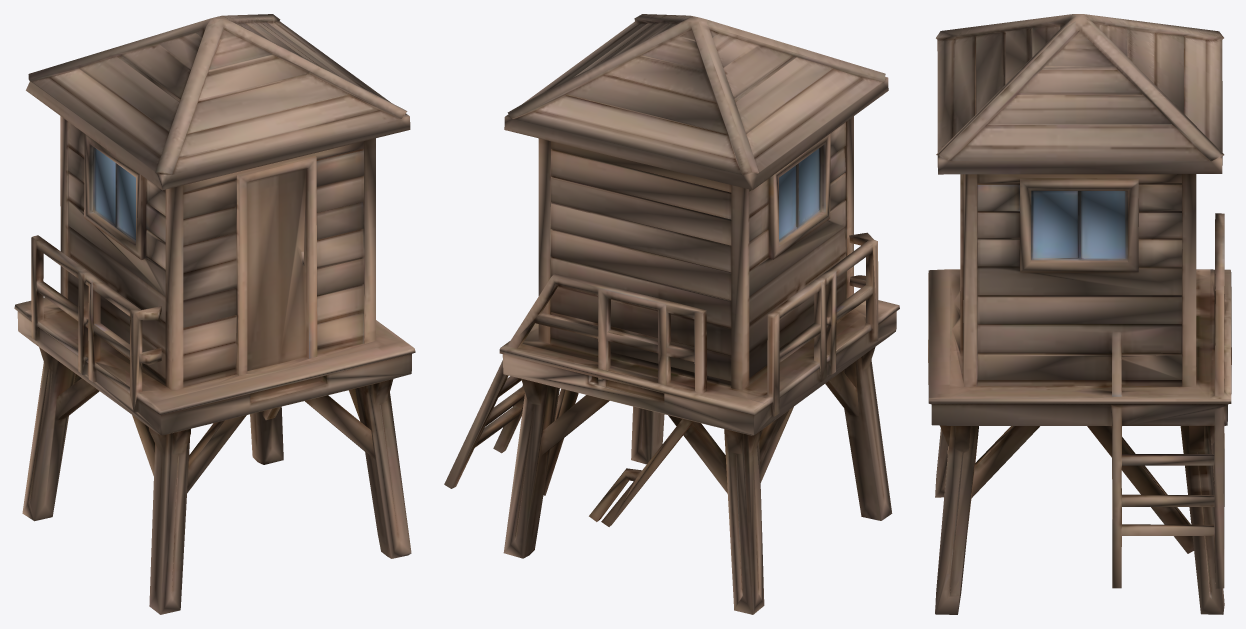
File: prop_tower.glb
3 renders of one model, left to right at view 1: azimuth 30°, elevation 25°; view 2: azimuth 150°, elevation 25°; view 3: azimuth 270°, elevation 25°, orthographic. The views are drawn at different scales.
Parts seen in each view (by area): view 1: node_0; view 2: node_0; view 3: node_0.
Boxes of the visible parts, <box> form: node_0: <box>14,14,415,614</box>; node_0: <box>444,14,899,614</box>; node_0: <box>928,14,1231,614</box>.
Size of the model in its own units: 0.6073 by 0.9447 by 0.4843.
Materials: 1 (1 with a texture image).
